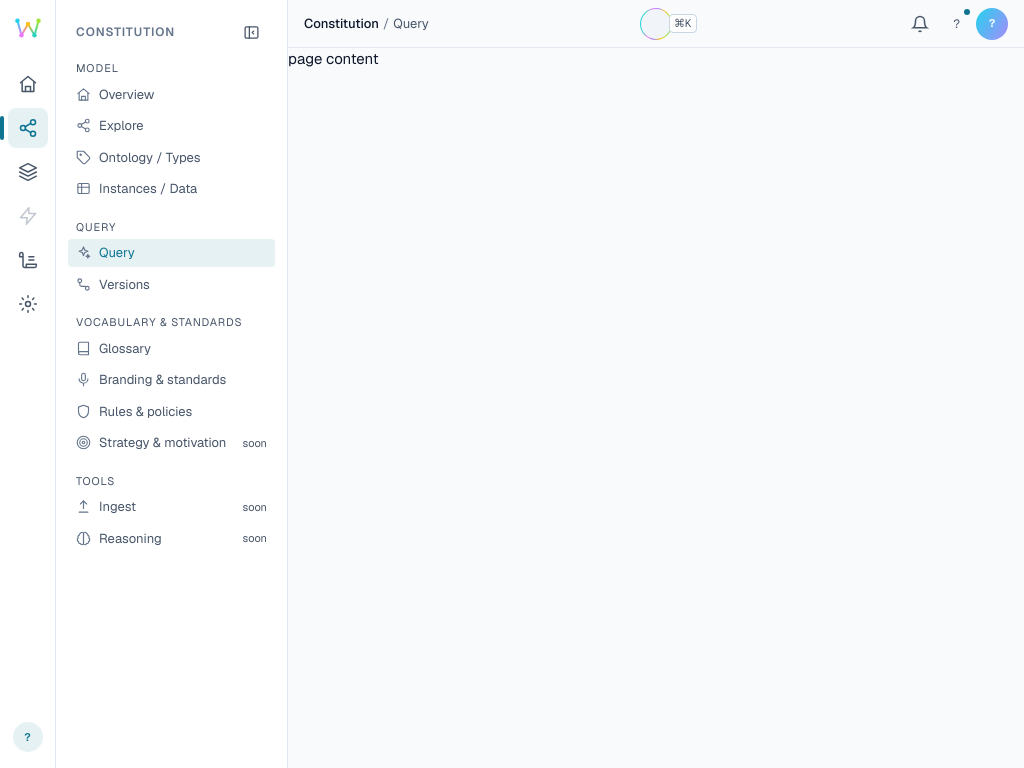
Test case: AppShell › collapses the sidebar and re-expands it from the top-bar button
Expected: the navigation bar named "Secondary" is shown, left=56, top=0, right=288, bottom=767
Click the button named "collapse sidebar" at (251, 32), box left=235, top=16, right=267, bottom=48
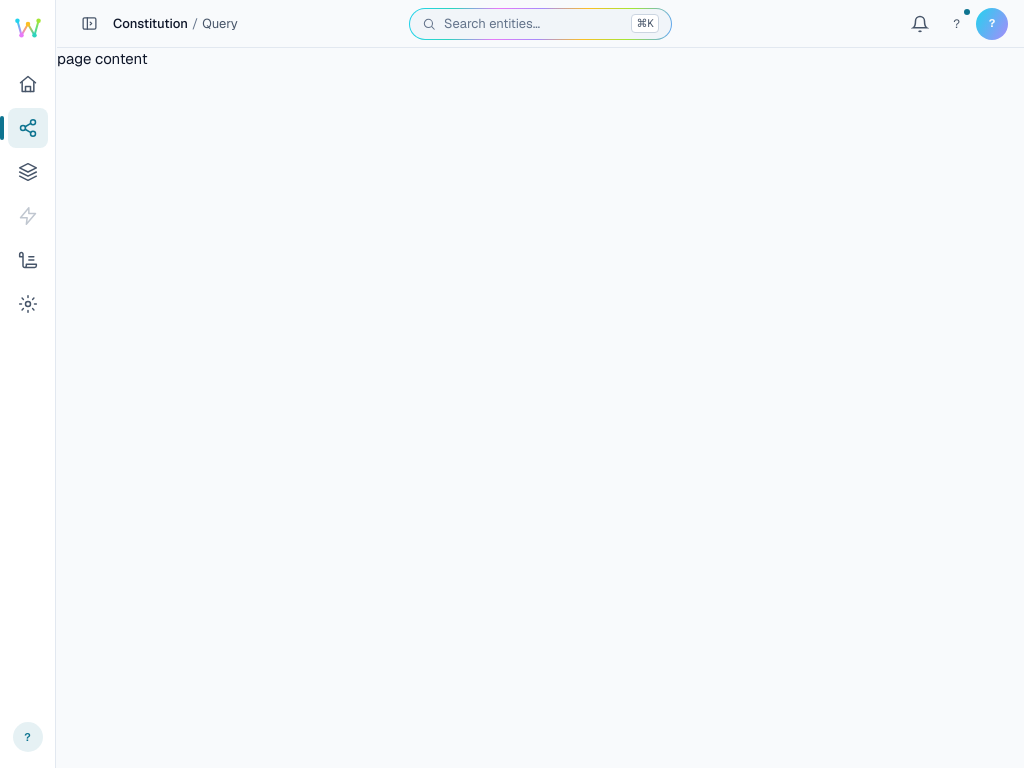
Expected: the navigation bar "Secondary" is gone
Click the button named "expand sidebar" at (89, 24), box left=73, top=8, right=105, bottom=40
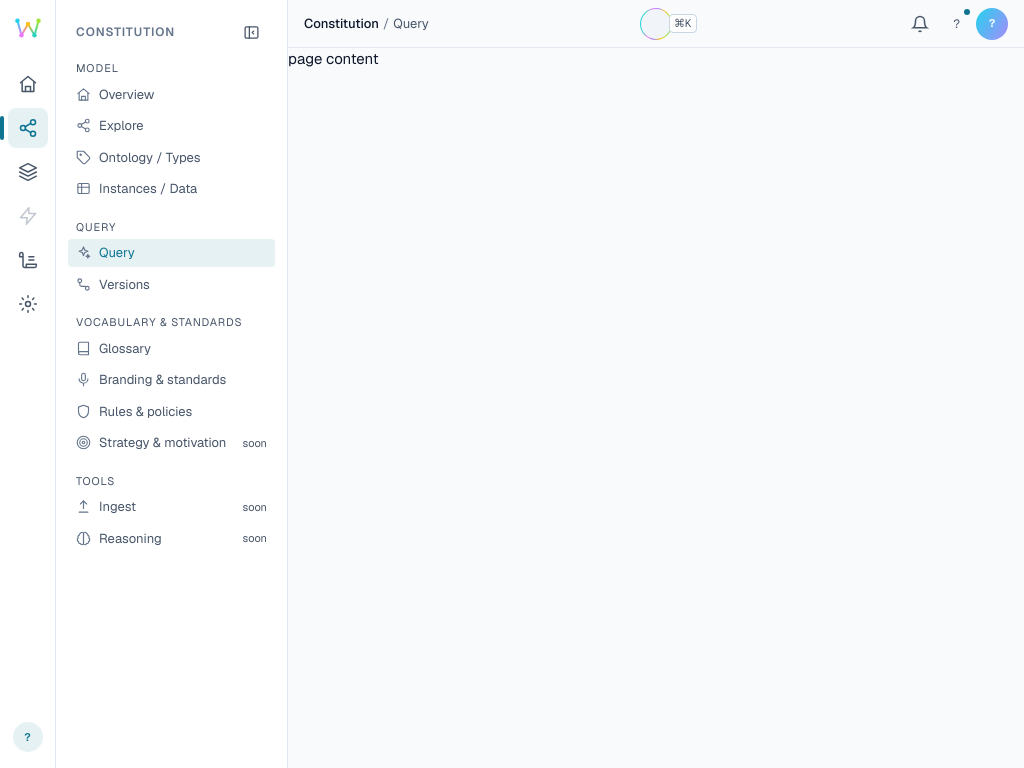
Expected: the navigation bar named "Secondary" is shown, left=56, top=0, right=288, bottom=767
